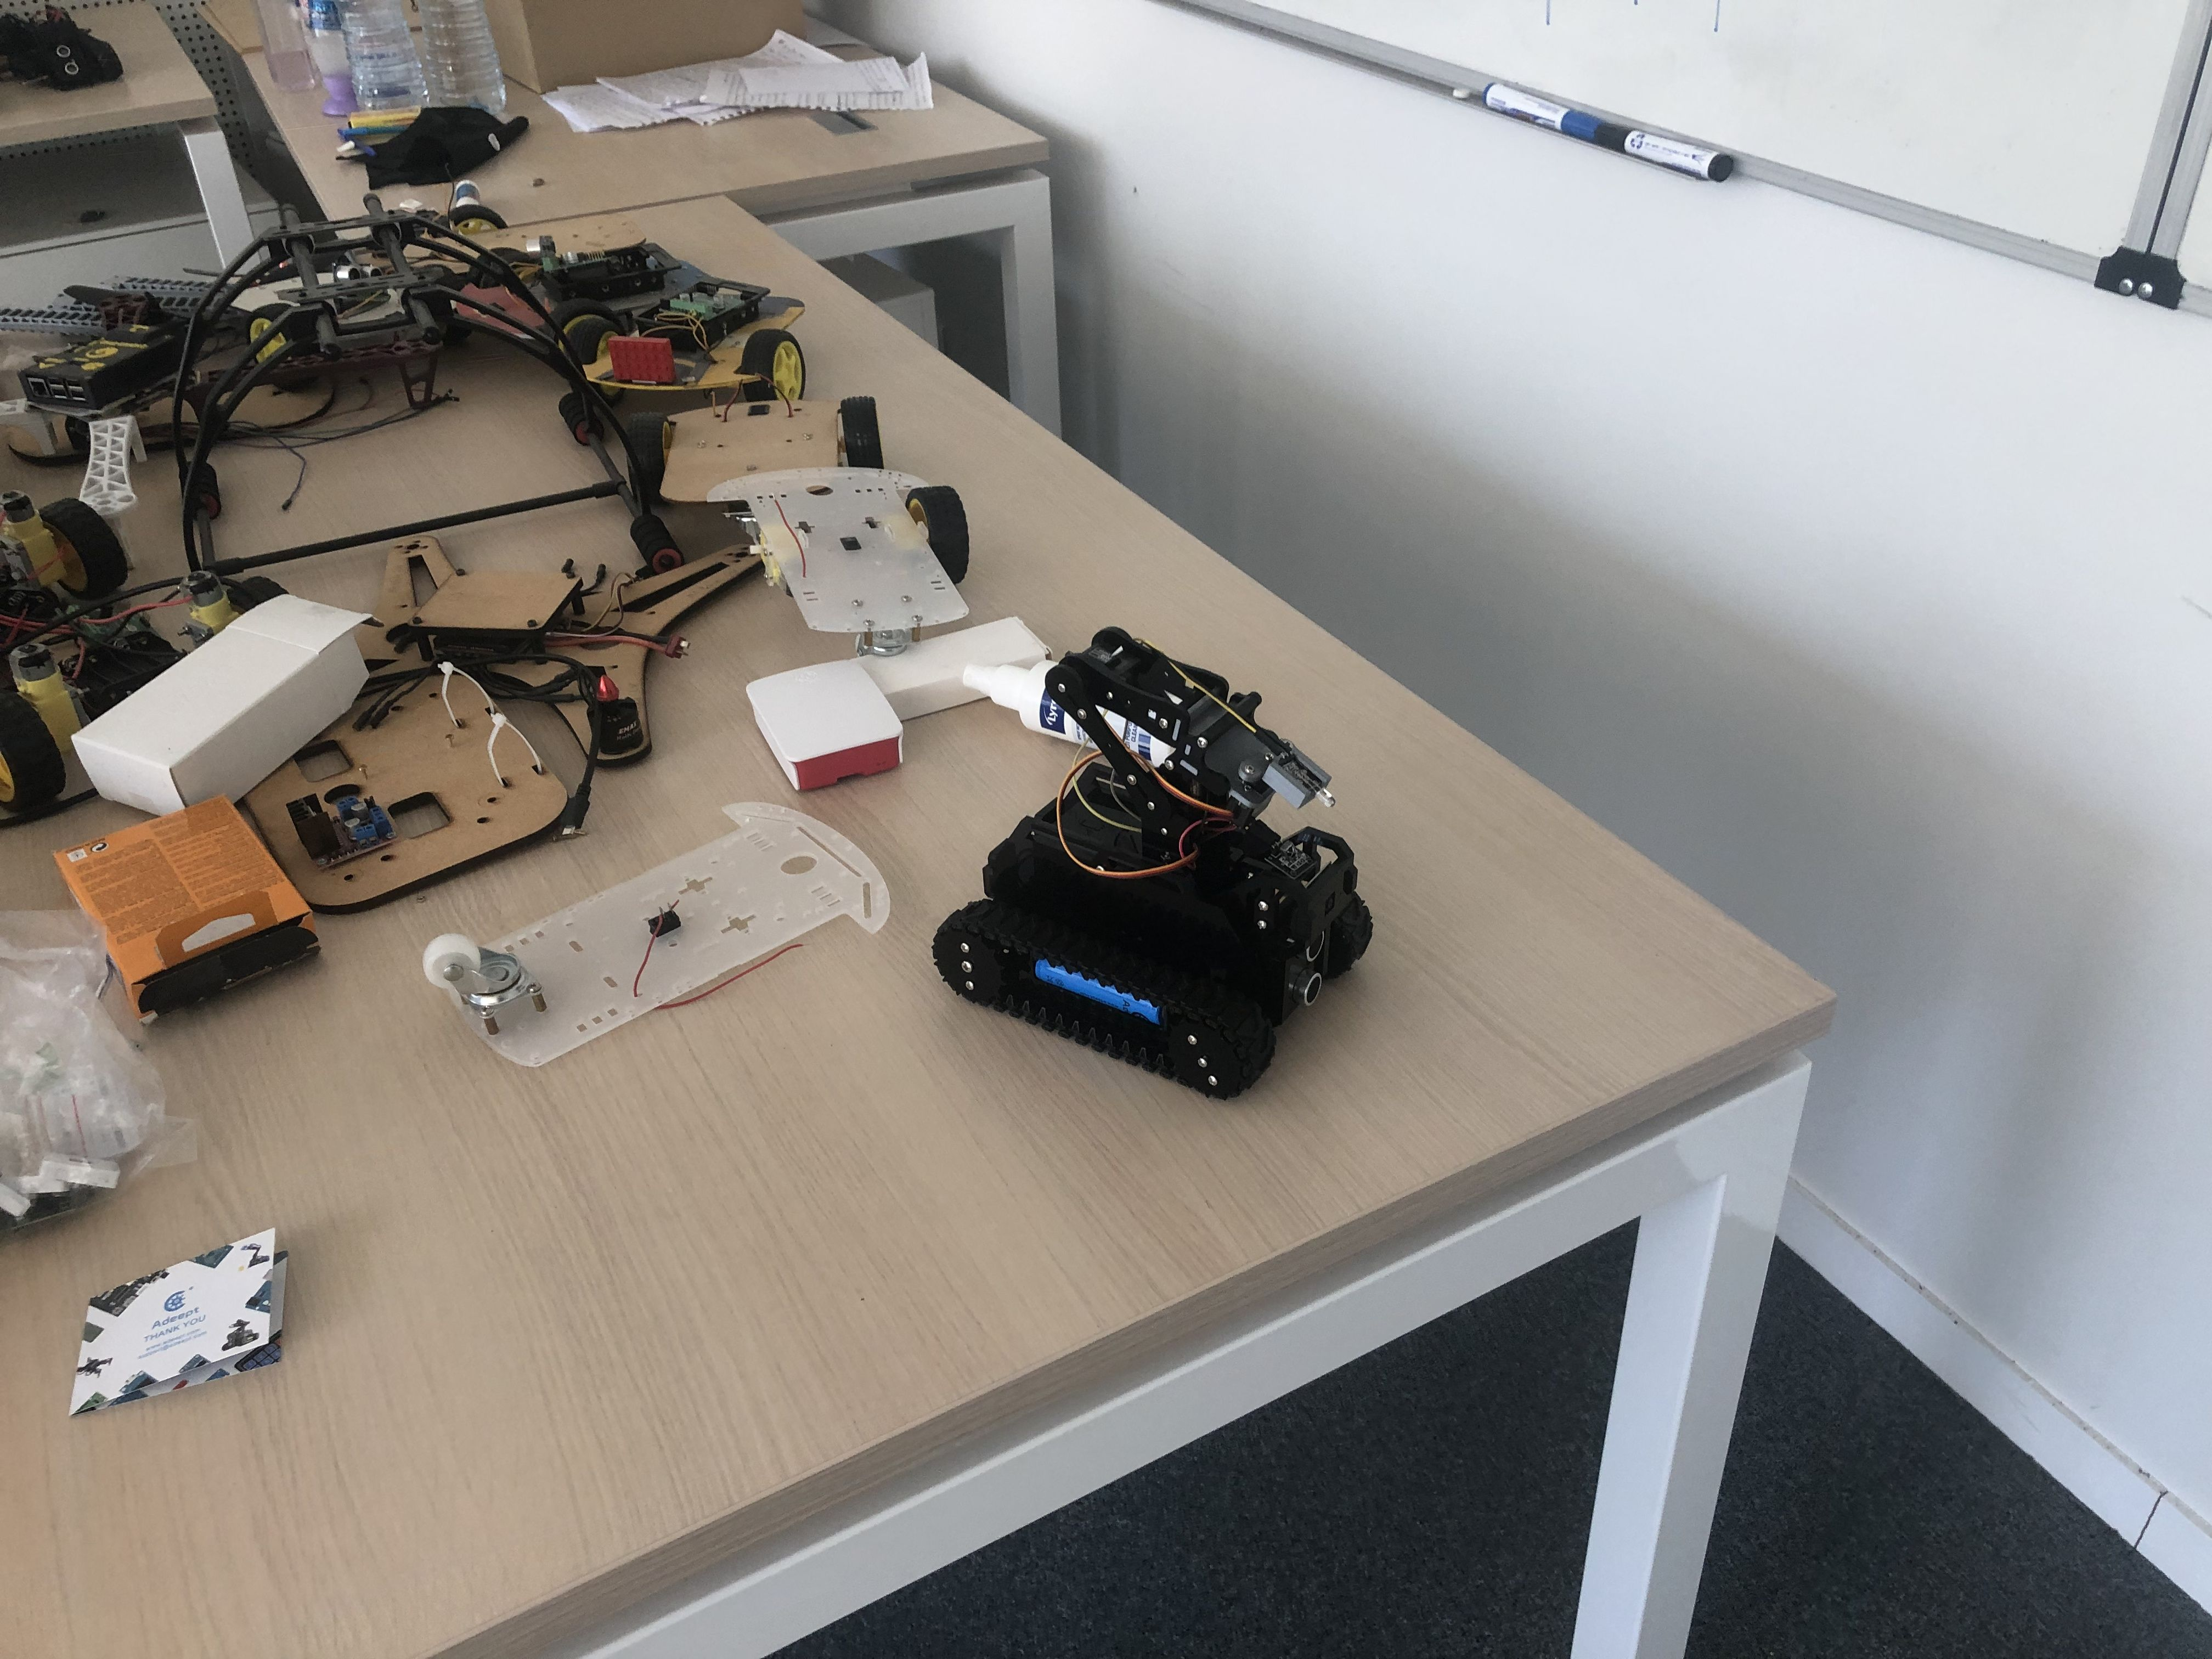rasptank: (928, 622, 1383, 1100)
